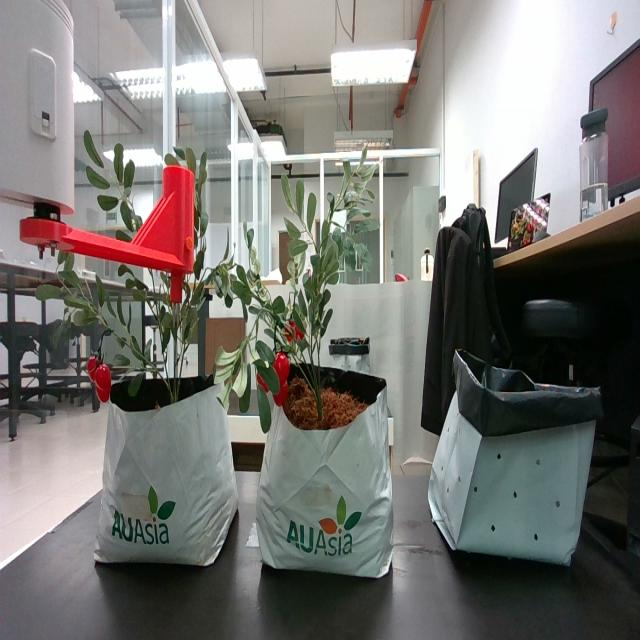EndEffector: (0, 0, 194, 327)
Soilbag: (428, 361, 598, 569), (256, 366, 395, 581), (94, 384, 238, 572)
Tomato: (85, 357, 113, 408)
plant: (35, 147, 236, 405), (212, 176, 374, 421)
